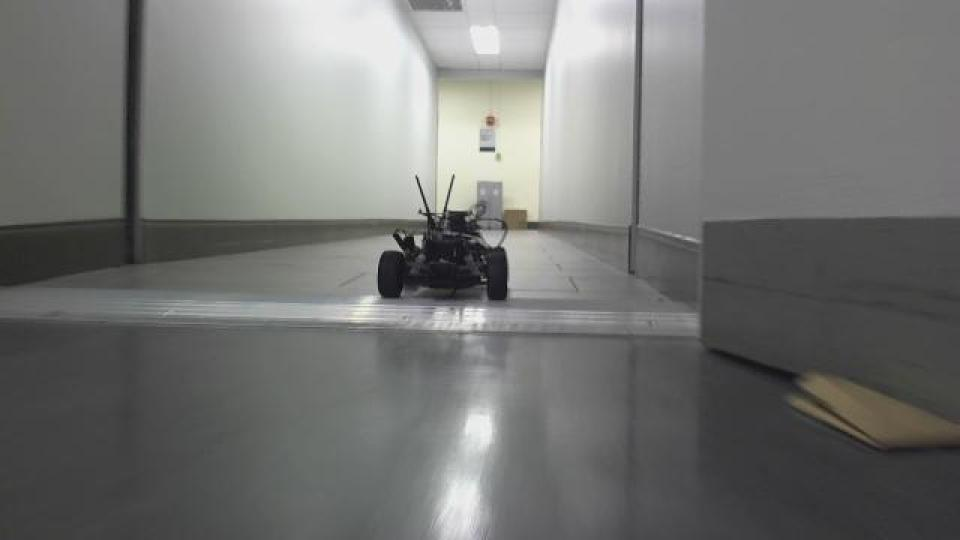car: (372, 171, 512, 305)
